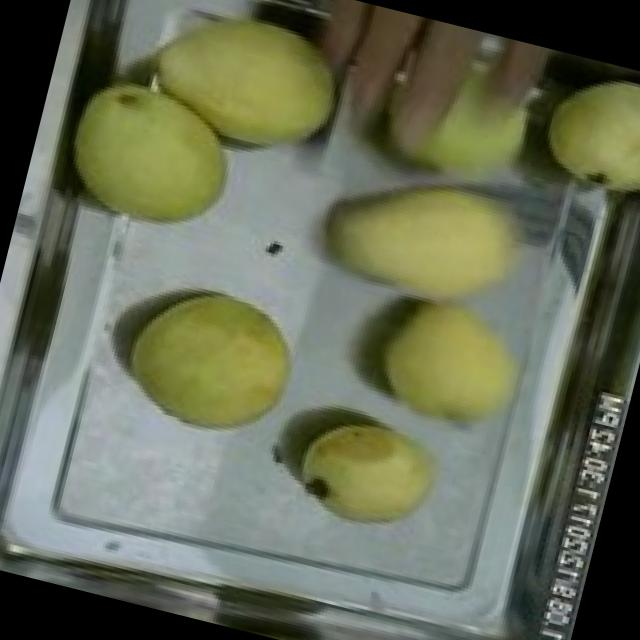Fruit: (306, 134, 558, 337), (126, 0, 373, 184), (45, 53, 256, 252), (109, 263, 317, 455), (357, 269, 547, 447), (278, 392, 458, 548), (522, 52, 640, 220)
